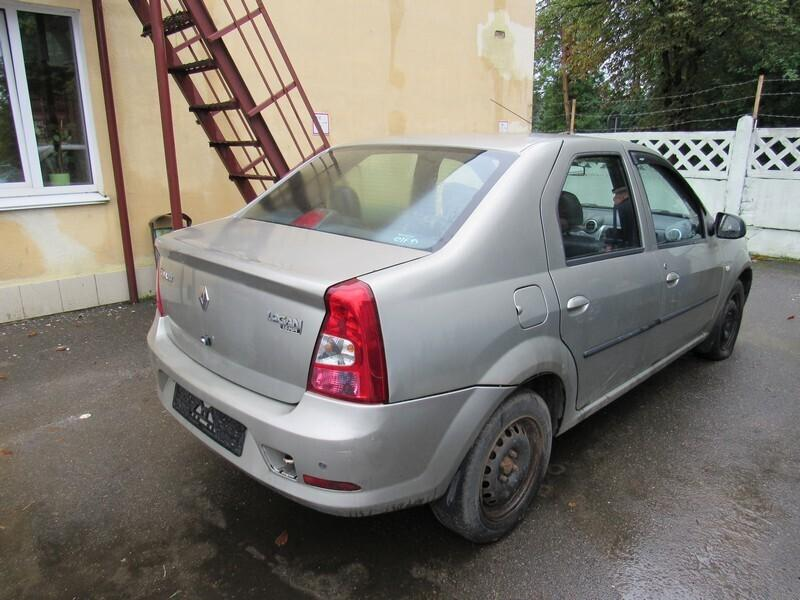Logan_2008-2015: (145, 133, 754, 537)
